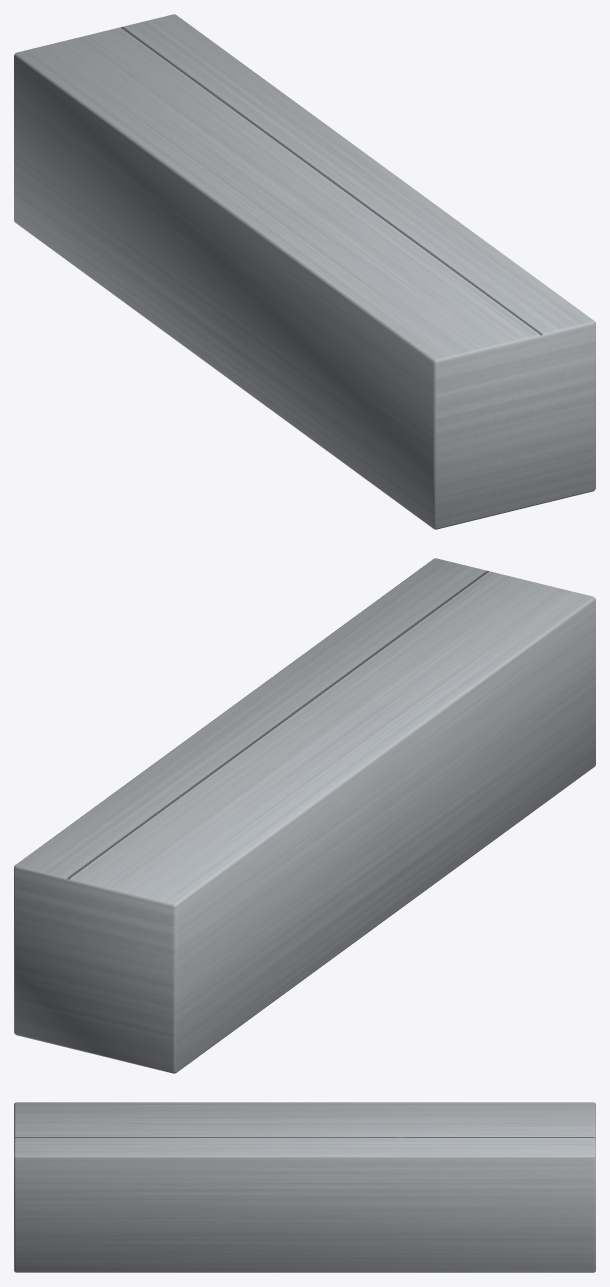
Rendered from metal_rod.glb.
3 views of the same model, one above another, from view 1: azimuth 30°, elevation 25°; view 2: azimuth 150°, elevation 25°; view 3: azimuth 270°, elevation 25° (orthographic). The views are drawn at different scales.
Parts seen in each view (by area): view 1: MetalRod; view 2: MetalRod; view 3: MetalRod.
Boxes of the visible parts, x1=… form: MetalRod: x1=14, y1=14, x2=595, y2=529; MetalRod: x1=14, y1=558, x2=595, y2=1073; MetalRod: x1=14, y1=1102, x2=595, y2=1272.
Size of the model in its own units: 0.218 by 0.218 by 0.978.
1 material, 1 textured.
